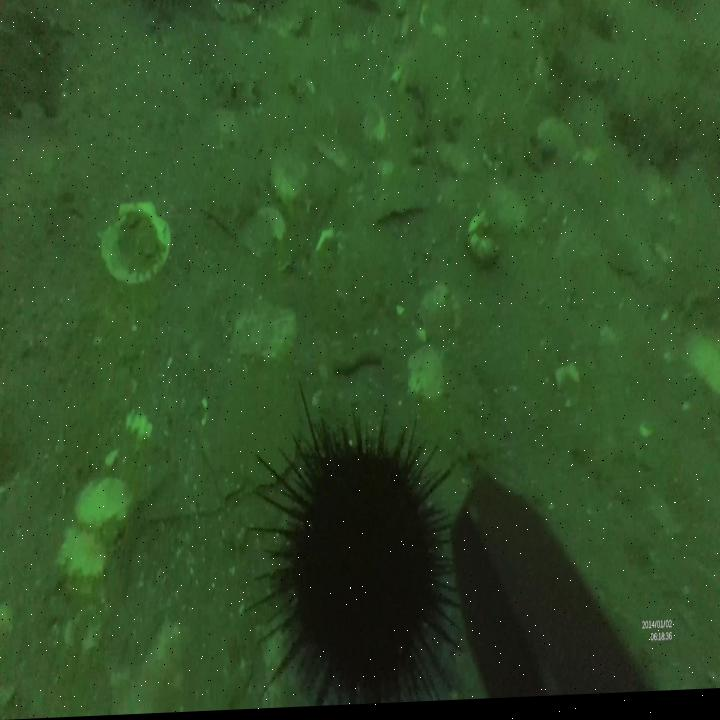echinus: (253, 387, 451, 711)
